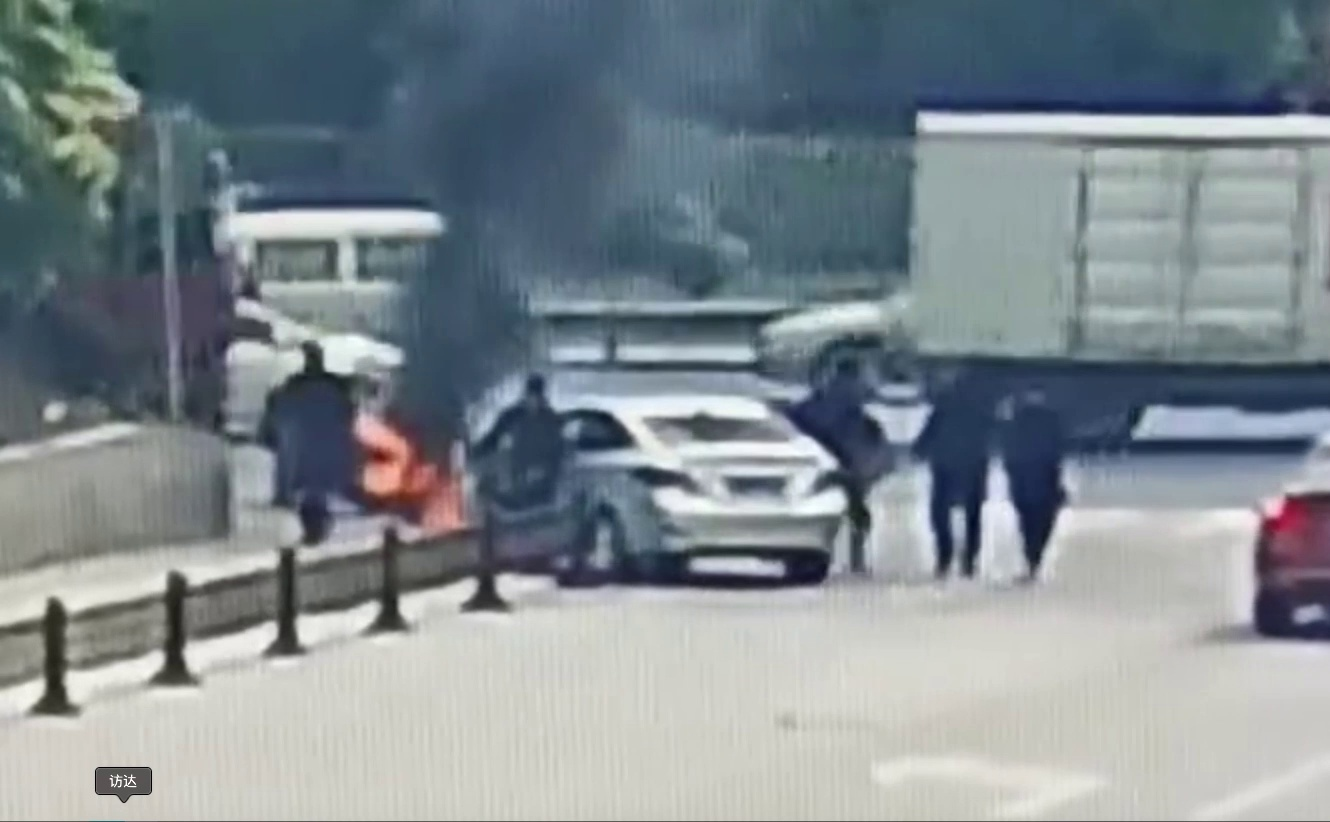smoke: (385, 88, 543, 496)
